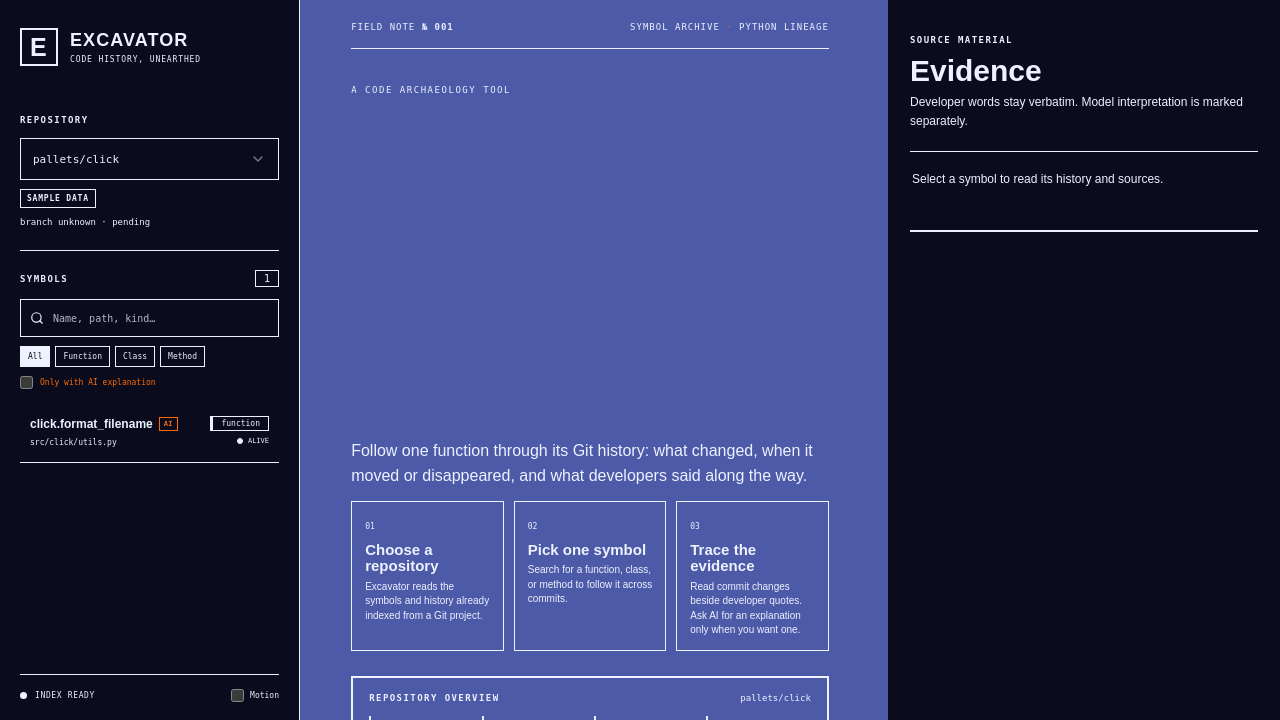
it: saved-data demo mode › explains that an AI key and local run are needed when no saved explanation exists
The image size is (1280, 720).
What coordinates should you click on to do the following:
click the button "click.format_filename AI src/click/utils.py function Alive"
I would click on:
 (150, 431)
Its box is [20,399,279,463].
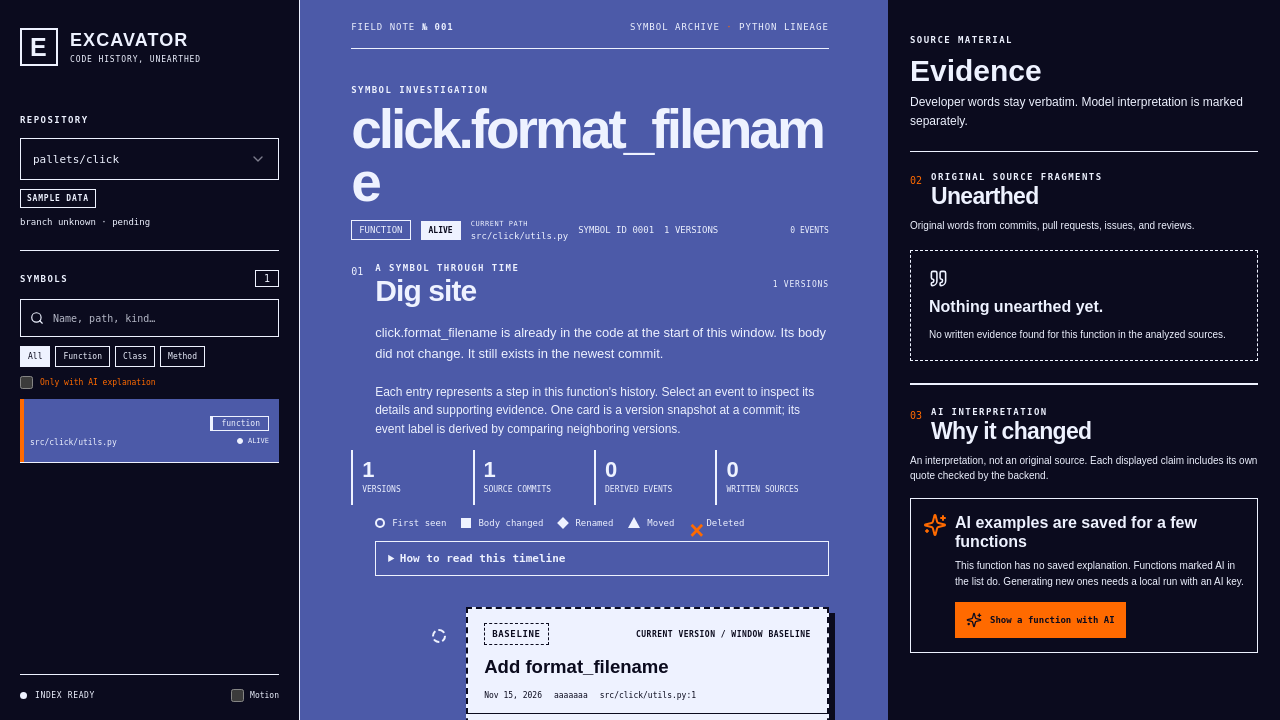
Expected: the heading "AI examples are saved for a few functions" is shown, [955,514,1197,550]
Expected: the text "This function has no saved explanation. Functions marked AI in the list do. Generating new ones needs a local run with a" is shown, [955,560,1244,587]
